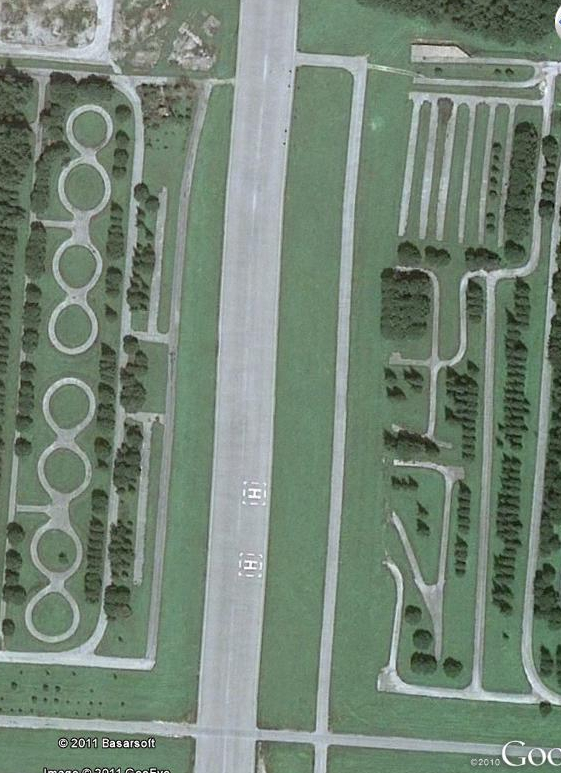heliport: (245, 484, 262, 500), (242, 558, 259, 571)
